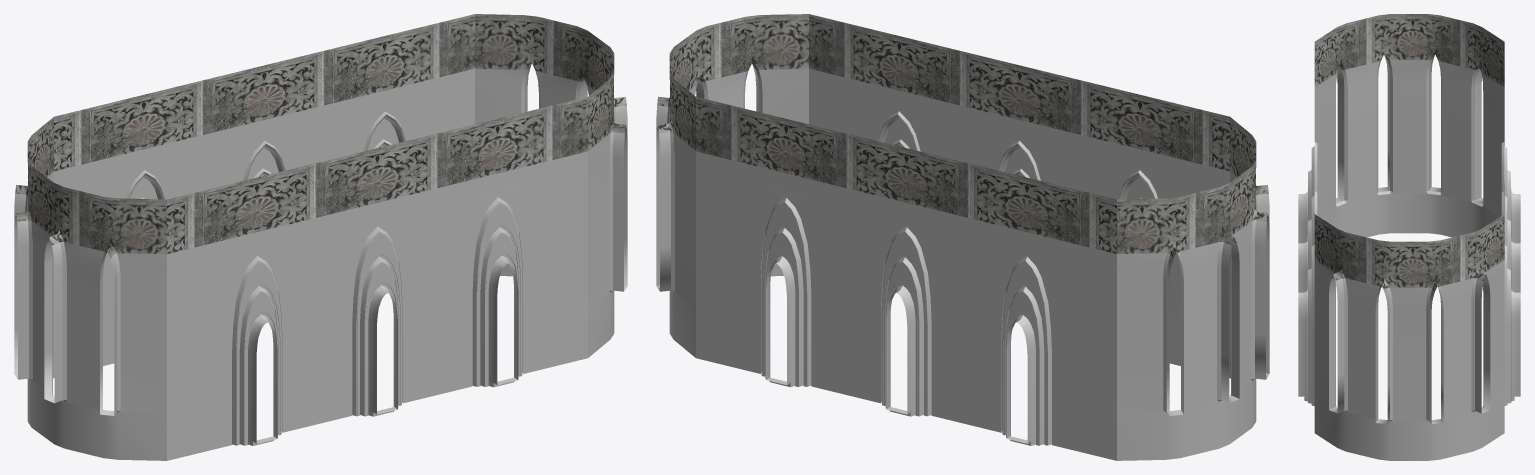
The model's file is SM_ThroneRoom_B.FBX.
3 views of the same model, side by side, from view 1: azimuth 30°, elevation 25°; view 2: azimuth 150°, elevation 25°; view 3: azimuth 270°, elevation 25° (orthographic). The views are drawn at different scales.
Visible parts, largest first — view 1: SM_ThroneRoom_B; view 2: SM_ThroneRoom_B; view 3: SM_ThroneRoom_B.
Boxes of the visible parts, x1,y1,x2,y2 form: SM_ThroneRoom_B: (14,14,627,460); SM_ThroneRoom_B: (656,14,1269,460); SM_ThroneRoom_B: (1298,14,1520,460).
Size of what is drawn, in the model's own units: 4934 by 1957 by 2127.
